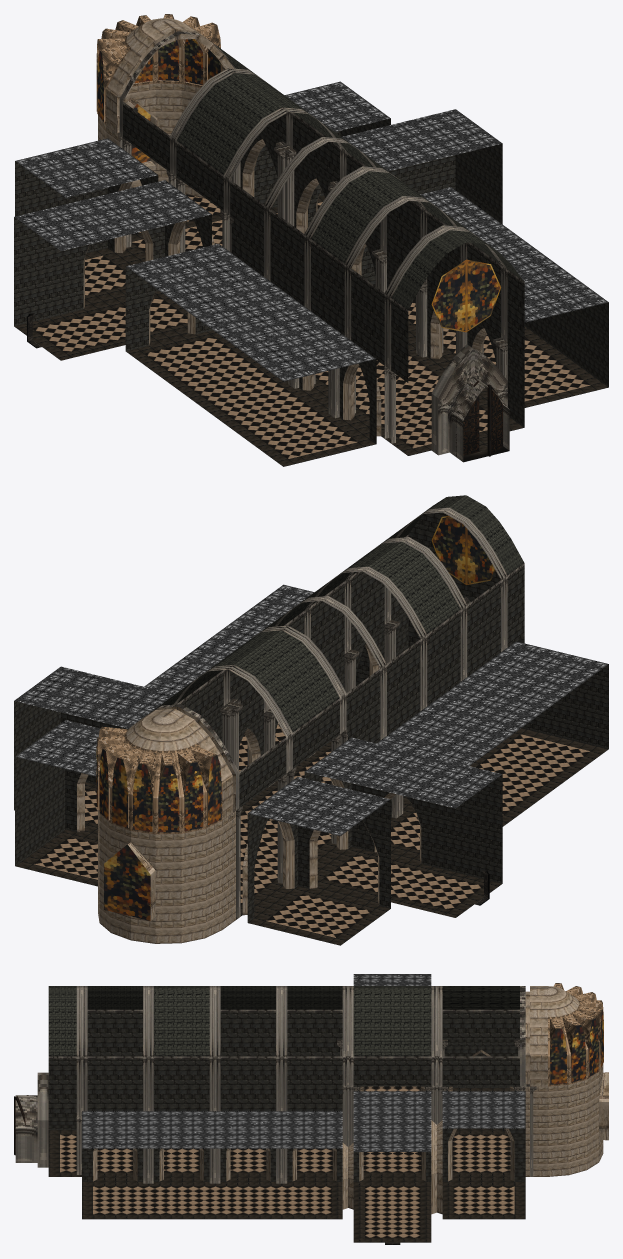
The model's file is parish_main.fbx.
3 views of the same model, one above another, from view 1: azimuth 30°, elevation 25°; view 2: azimuth 150°, elevation 25°; view 3: azimuth 270°, elevation 25° (orthographic). The views are drawn at different scales.
Parts seen in each view (by area): view 1: Plane.004, Plane.001, Plane.003, Plane.017, Plane.027, Plane, Plane.026, Plane.005, Plane.030, Plane.020, Plane.007, Plane.008 (+11 smaller); view 2: Plane.004, Plane.001, Plane.017, Plane.003, Plane.027, Plane.008, Plane, Plane.026, Plane.019, Plane.007, Plane.020, Plane.005 (+6 smaller); view 3: Plane.017, Plane.003, Plane.004, Plane.027, Plane, Plane.026, Plane.008, Plane.001, Plane.005, Plane.020, Plane.028, Plane.007 (+6 smaller).
Part boxes in pixels (x1=…): Plane.004: x1=14, y1=81, x2=608, y2=381; Plane.001: x1=14, y1=118, x2=608, y2=443; Plane.003: x1=32, y1=202, x2=590, y2=458; Plane.017: x1=123, y1=105, x2=524, y2=382; Plane.027: x1=177, y1=45, x2=523, y2=309; Plane: x1=14, y1=195, x2=608, y2=466; Plane.026: x1=119, y1=31, x2=507, y2=370; Plane.005: x1=83, y1=139, x2=487, y2=436; Plane.030: x1=431, y1=259, x2=500, y2=332; Plane.020: x1=106, y1=18, x2=233, y2=133; Plane.007: x1=96, y1=14, x2=222, y2=125; Plane.008: x1=98, y1=83, x2=205, y2=198; Plane.004: x1=14, y1=584, x2=608, y2=835; Plane.001: x1=14, y1=512, x2=608, y2=922; Plane.017: x1=182, y1=567, x2=524, y2=807; Plane.003: x1=34, y1=723, x2=589, y2=937; Plane.027: x1=150, y1=495, x2=524, y2=731; Plane.008: x1=98, y1=810, x2=235, y2=943; Plane: x1=14, y1=728, x2=608, y2=945; Plane.026: x1=146, y1=507, x2=507, y2=810; Plane.019: x1=96, y1=739, x2=221, y2=832; Plane.007: x1=97, y1=726, x2=222, y2=834; Plane.020: x1=126, y1=706, x2=235, y2=819; Plane.005: x1=77, y1=643, x2=421, y2=915; Plane.017: x1=48, y1=1012, x2=519, y2=1116; Plane.003: x1=60, y1=1086, x2=514, y2=1237; Plane.004: x1=82, y1=974, x2=525, y2=1151; Plane.027: x1=48, y1=986, x2=519, y2=1056; Plane: x1=48, y1=1086, x2=525, y2=1242; Plane.026: x1=76, y1=986, x2=525, y2=1116; Plane.008: x1=525, y1=1064, x2=603, y2=1176; Plane.001: x1=48, y1=1039, x2=525, y2=1181; Plane.005: x1=93, y1=1049, x2=514, y2=1214; Plane.020: x1=525, y1=986, x2=579, y2=1086; Plane.028: x1=48, y1=1009, x2=519, y2=1059; Plane.007: x1=548, y1=983, x2=603, y2=1086.
Size of the model in its own units: 39 by 16.4 by 53.65.
12 materials, 12 textured.
